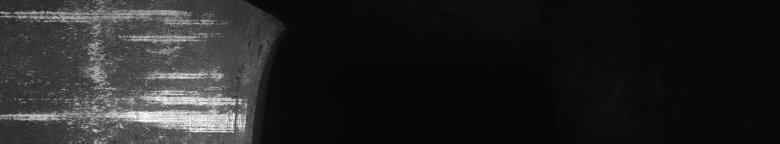kb: (4, 0, 274, 144)
